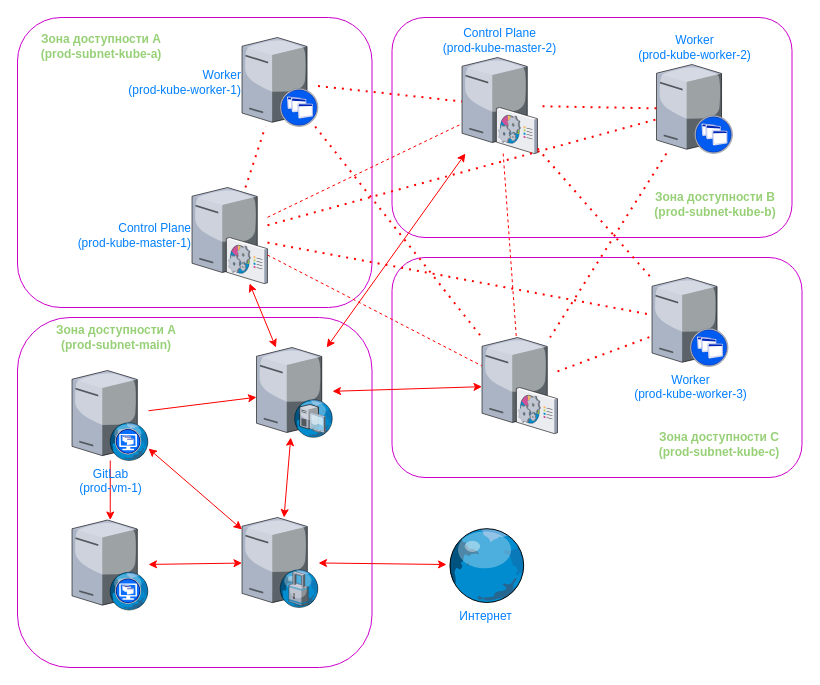
Image size: 820x685. Some labels were removed from this diagram. The shapes that lost their labels are listed below. From the top down, each one's centre as x and y in pixels, then its label:
[294,392]: kube proxy CI runner (prod-vm-3)
[519,385]: Control Plane (prod-kube-master-3)
[110,565]: Grafana InfluxDB (prod-vm-2)
[280,562]: Proxy SSH Бастион (prod-bastion)
